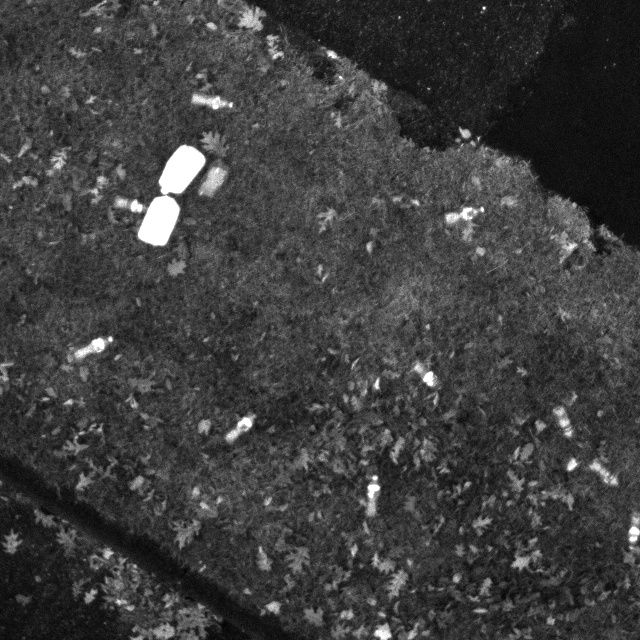bottle: (65, 325, 120, 376), (352, 464, 389, 533), (212, 405, 263, 450), (435, 196, 494, 231), (582, 448, 623, 497), (409, 353, 444, 402), (546, 398, 578, 448), (181, 89, 238, 116), (108, 191, 158, 221)
can: (146, 135, 208, 203), (128, 190, 185, 255)
container: (191, 159, 232, 209)
